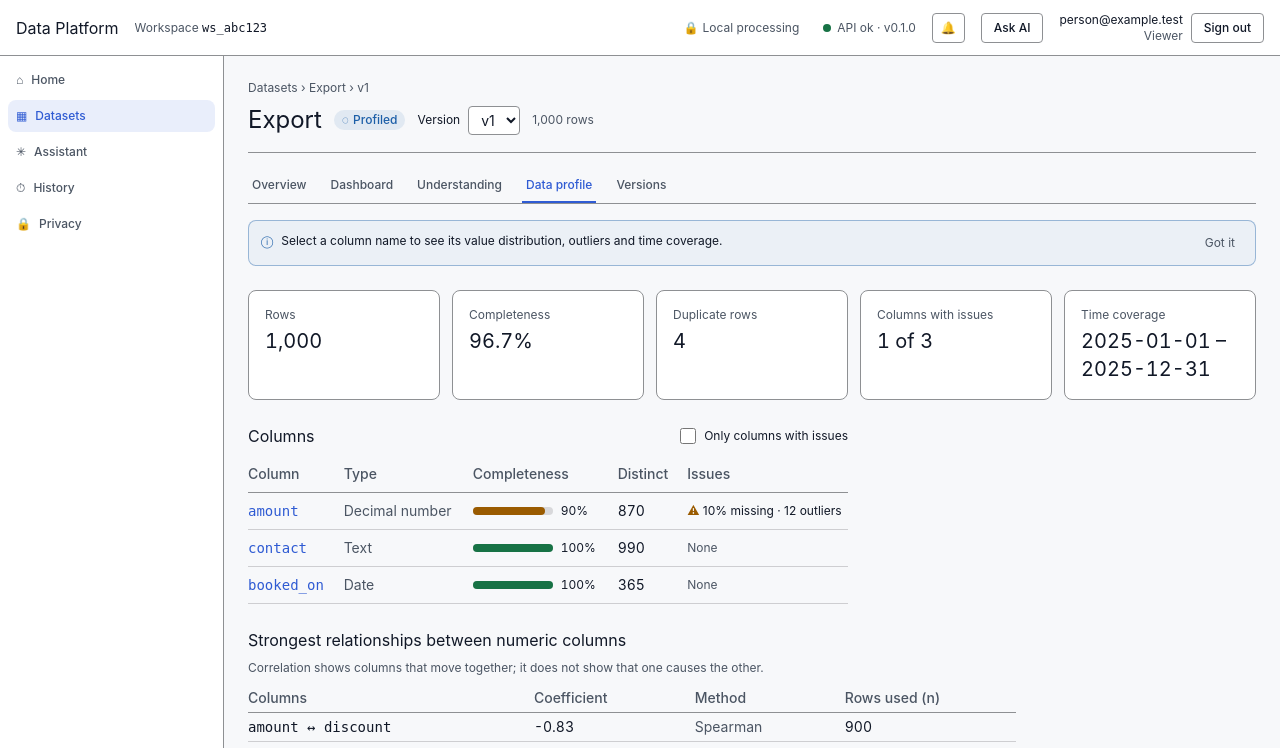
ProfileViewer (TASK-UI-006) › shows masked values as masked in the column detail
Click the button "contact" at (278, 548), box [248,538,307,558]
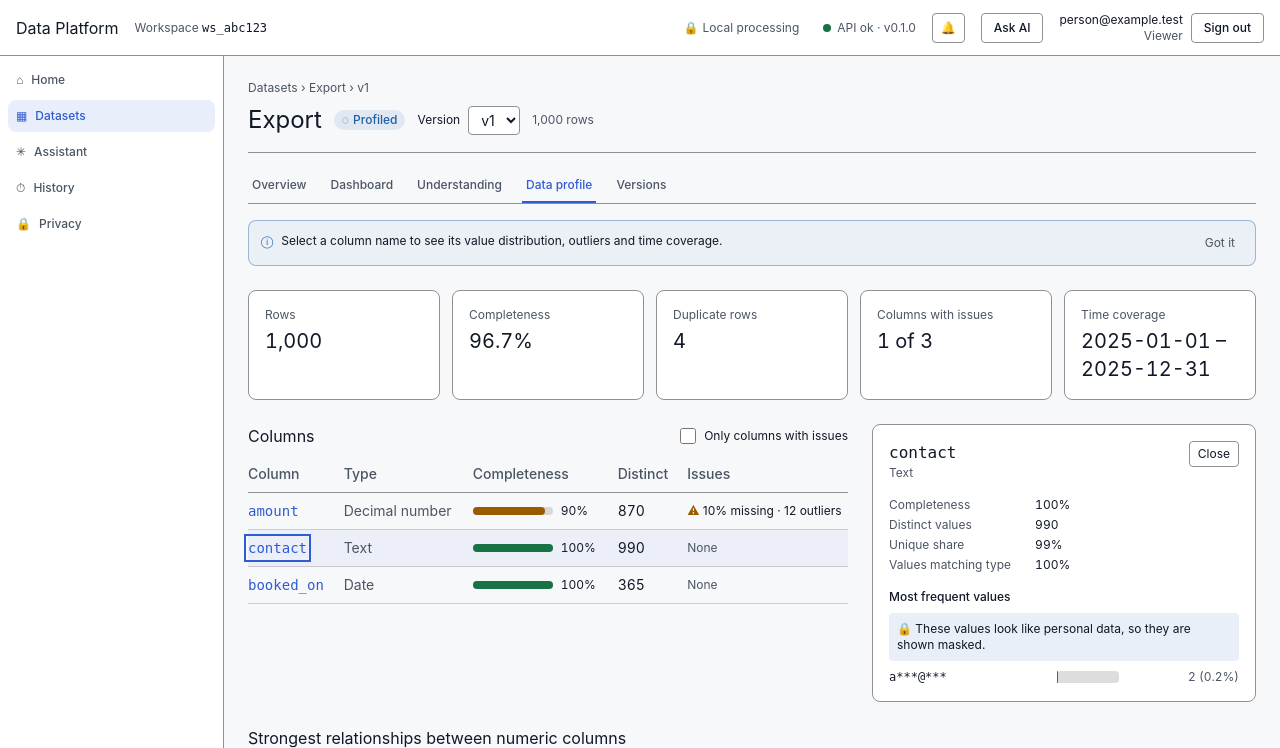
Expected: the text "look like personal data" is shown, [897,621,1191,652]
